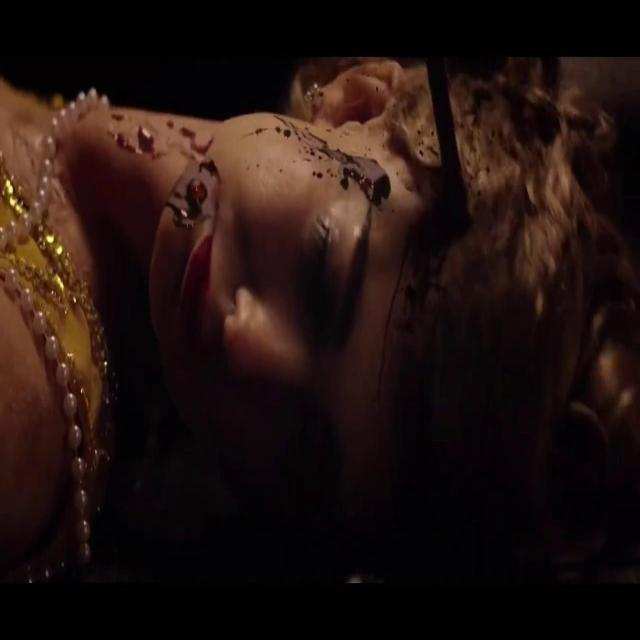flood: (98, 76, 404, 252)
